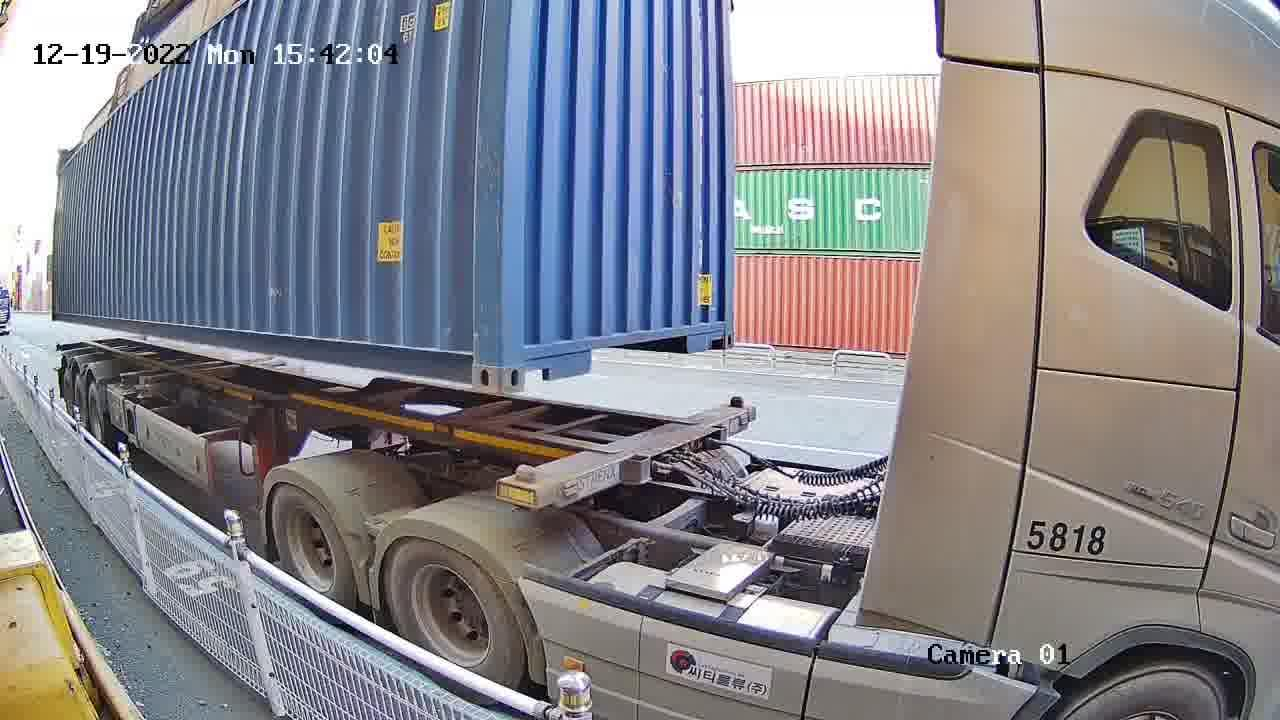Chassis: (496, 402, 752, 509)
Cone: (500, 462, 540, 503), (727, 390, 746, 413)
Hole_L: (501, 327, 553, 393)
Hole_R: (436, 327, 500, 391), (701, 303, 736, 352)
Tire: (383, 537, 522, 683), (273, 488, 351, 593)
